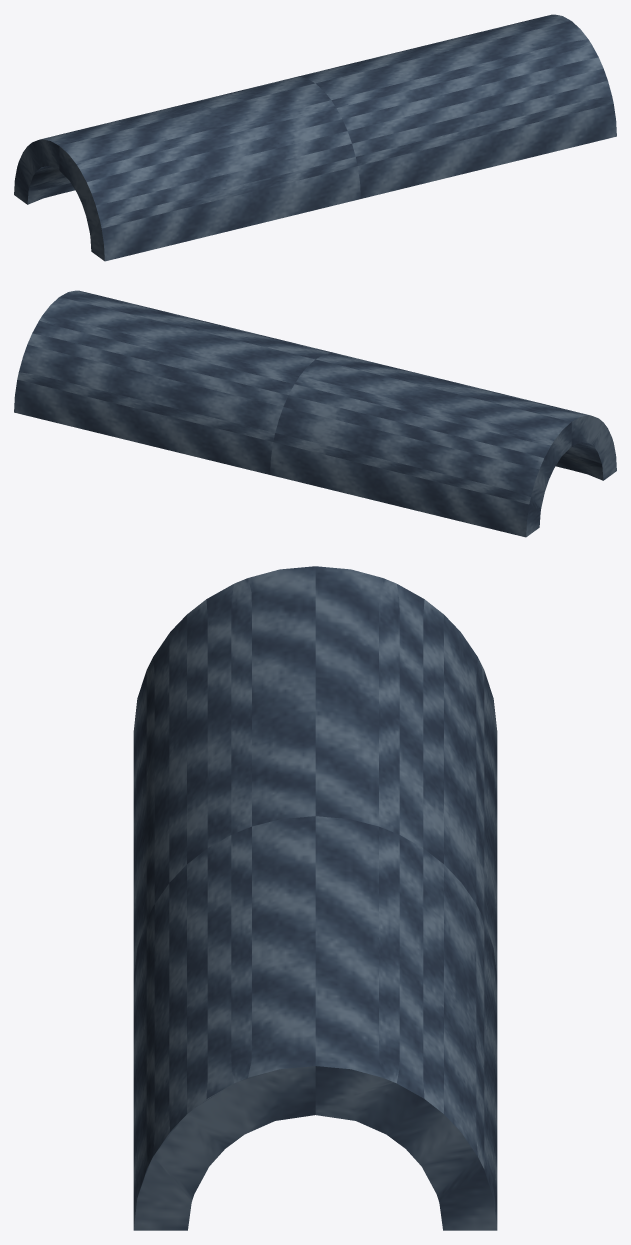
Rendered from roof_ridge_slate.glb.
3 views of the same model, one above another, from view 1: azimuth 30°, elevation 25°; view 2: azimuth 150°, elevation 25°; view 3: azimuth 270°, elevation 25° (orthographic). The views are drawn at different scales.
Visible parts, largest first — view 1: town_roof_ridge_slate; view 2: town_roof_ridge_slate; view 3: town_roof_ridge_slate.
Boxes of the visible parts, x1,y1,x2,y2 form: town_roof_ridge_slate: (14,14,616,261); town_roof_ridge_slate: (14,290,616,537); town_roof_ridge_slate: (133,566,497,1230).
Bounding box in the file's own units: 1 × 0.1537 × 0.3073.
Materials: 1 (1 with a texture image).
